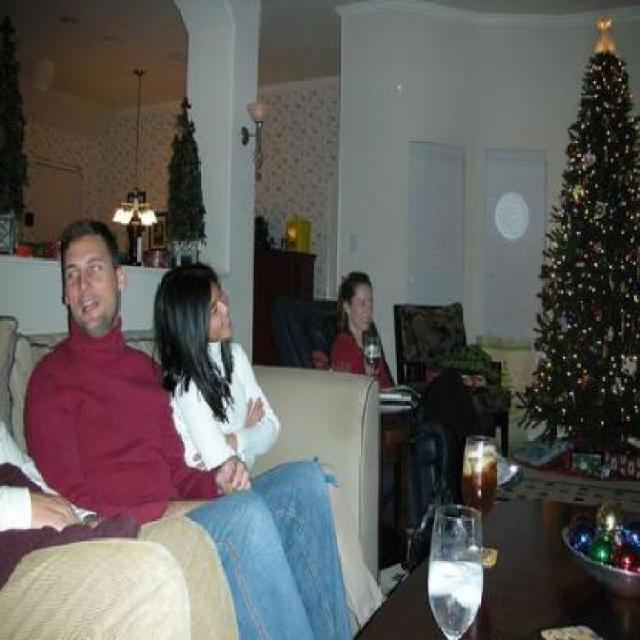Person: (20, 218, 354, 638), (153, 261, 389, 628), (330, 270, 524, 488)
